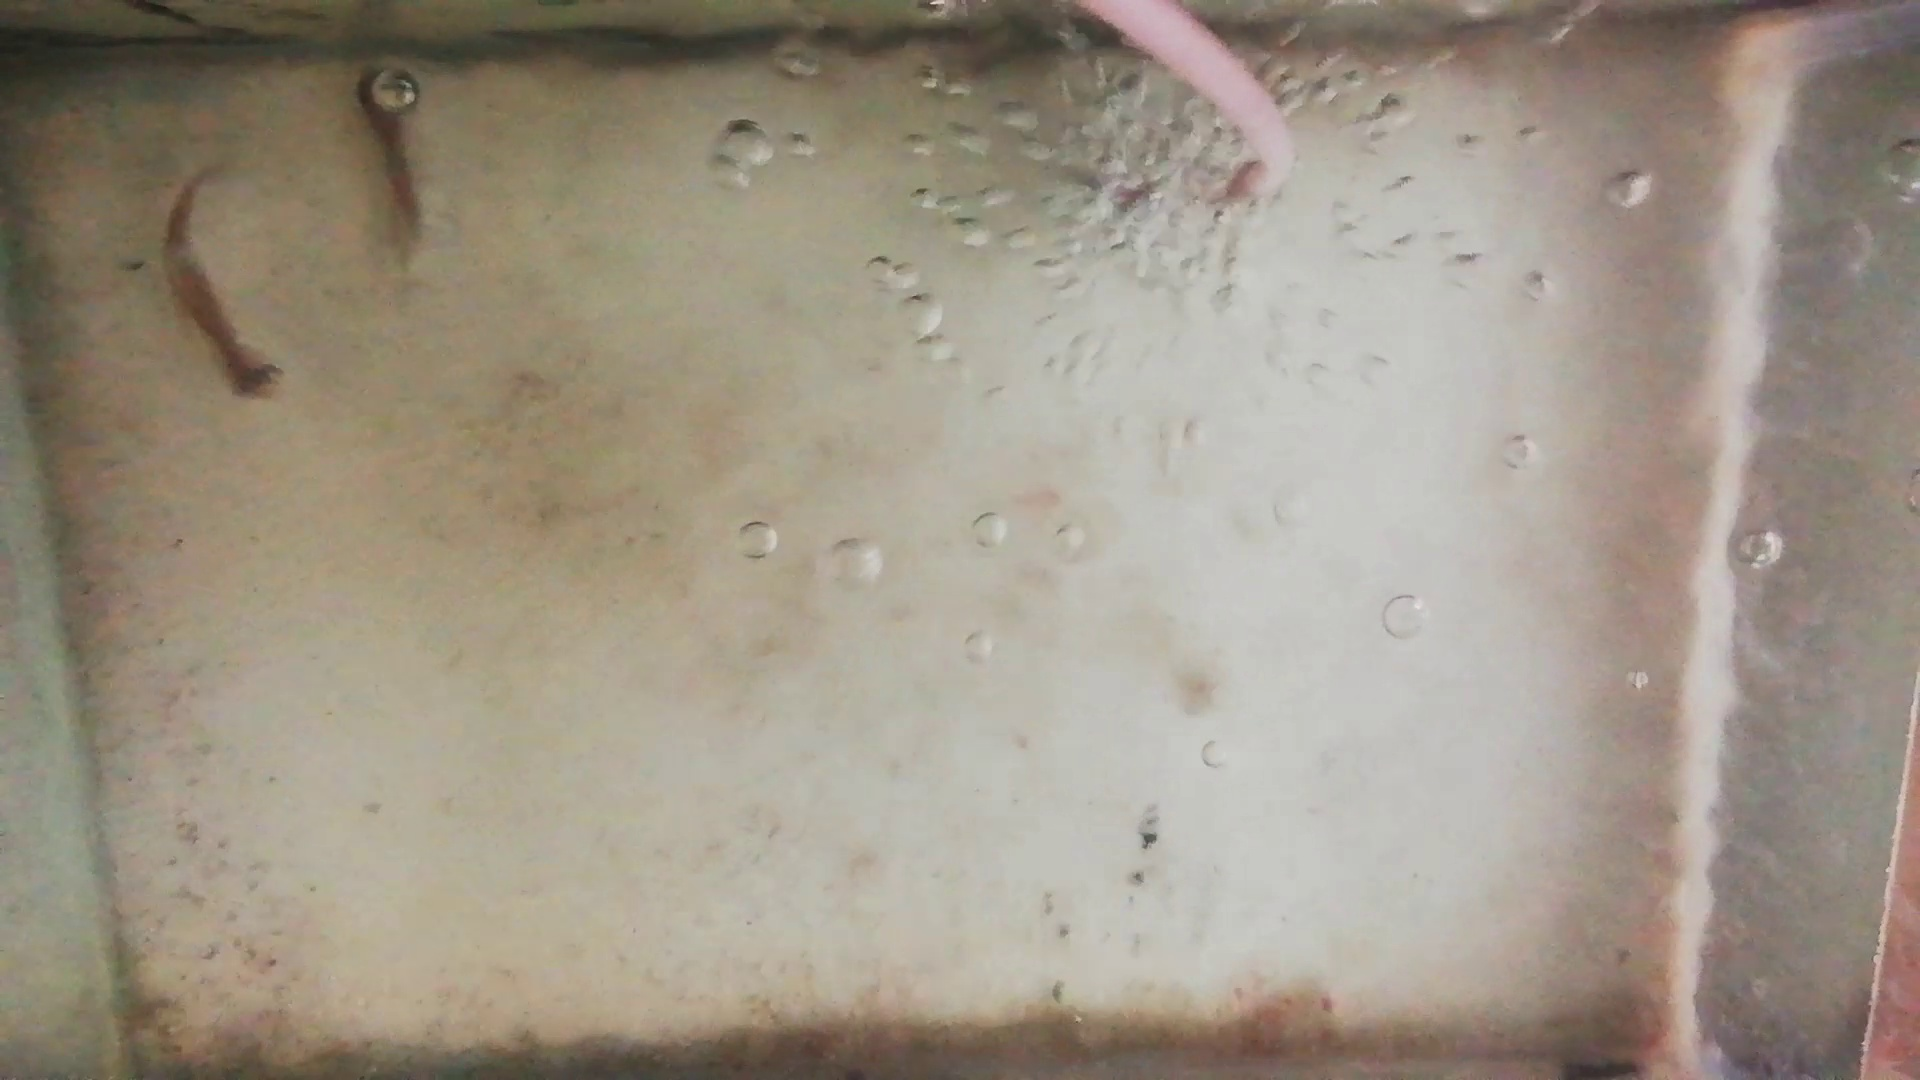fish: (164, 174, 280, 405), (355, 65, 419, 236)
